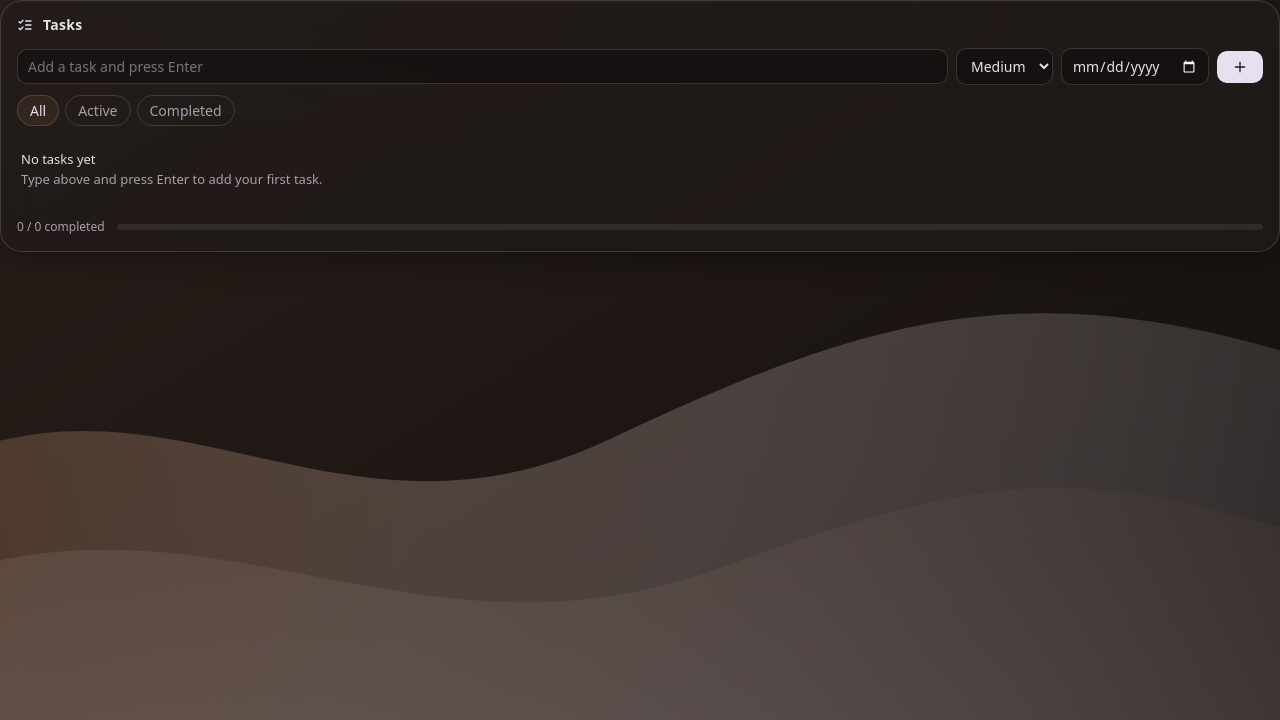
Test case: Tasks widget › adds a task with Enter and clears the input
This screenshot has width=1280, height=720.
Type "Write tests" into the field named "New task". click: (482, 66)
box: [17,49,948,84]
Then press Enter
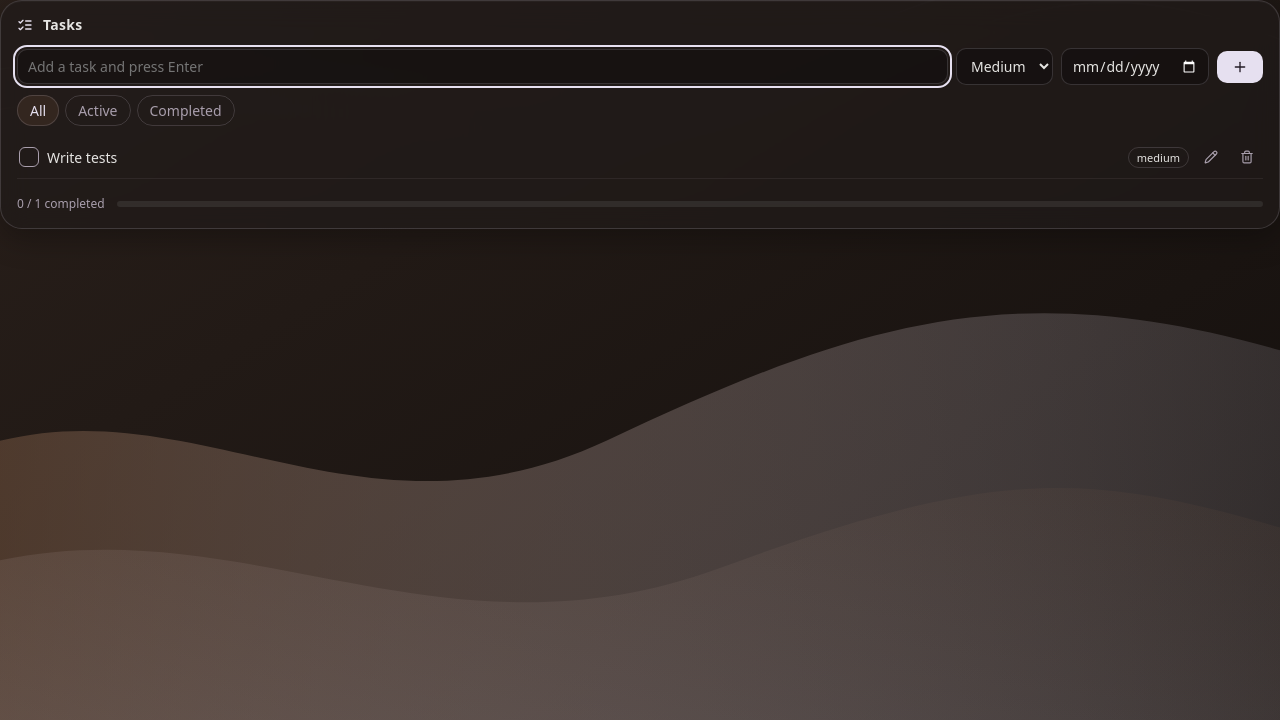
Now the text "Write tests" is shown, box [47,148,117,166]
